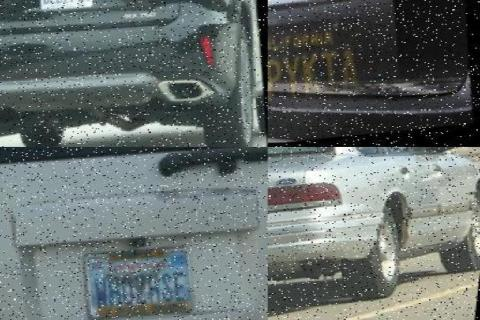LicensePlate: (268, 18, 381, 110), (80, 244, 204, 320), (36, 0, 100, 21)
